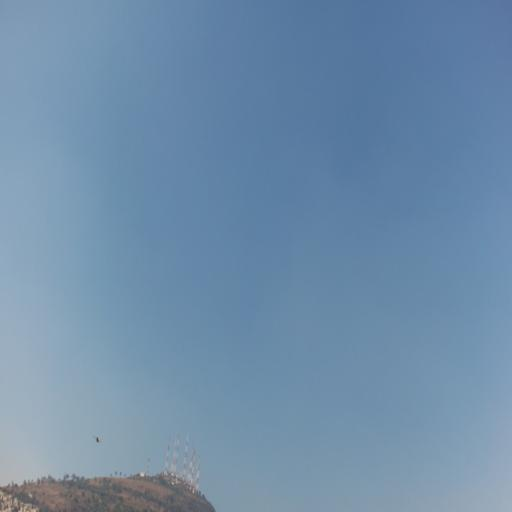drones: (92, 434, 103, 445)
